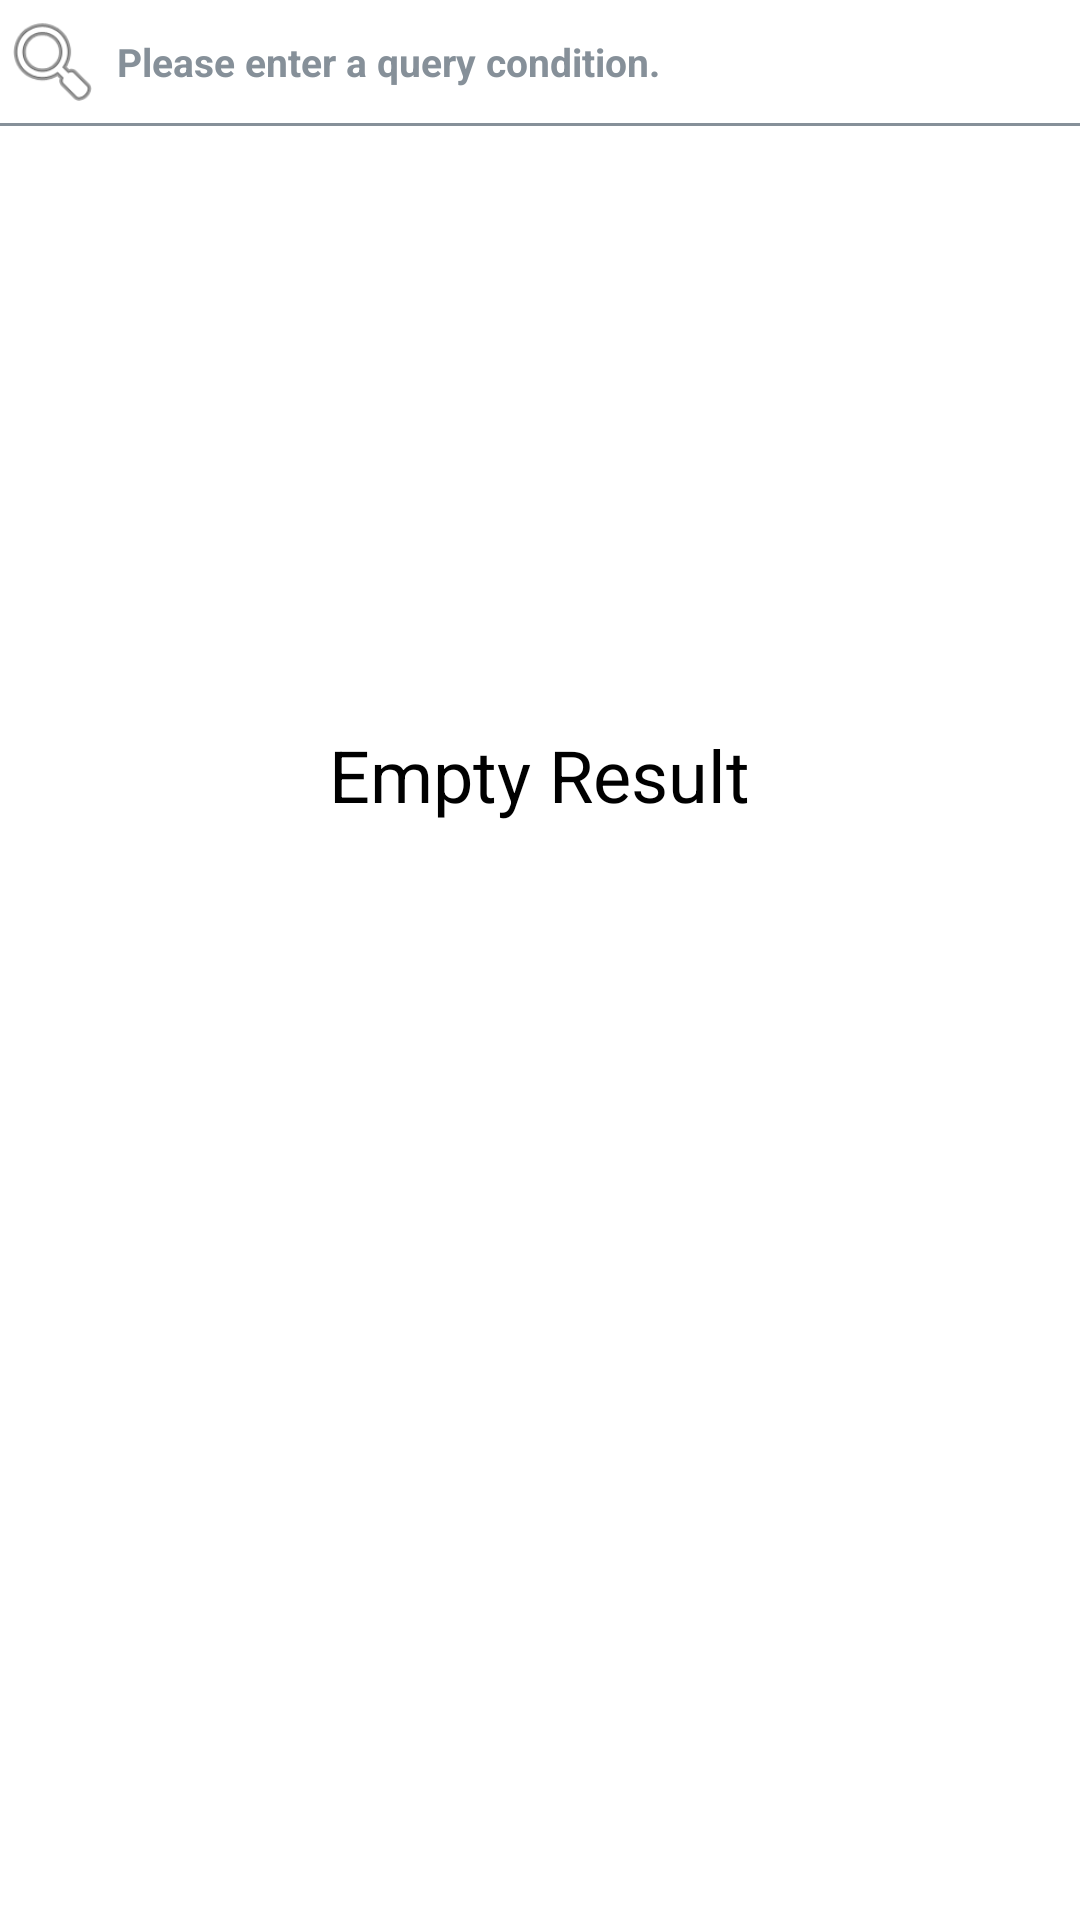

Screen size 1080px x 1920px. Icon name, then its box in pixels as (x1, y1, x2, y2):
search: (14, 23, 91, 101)
